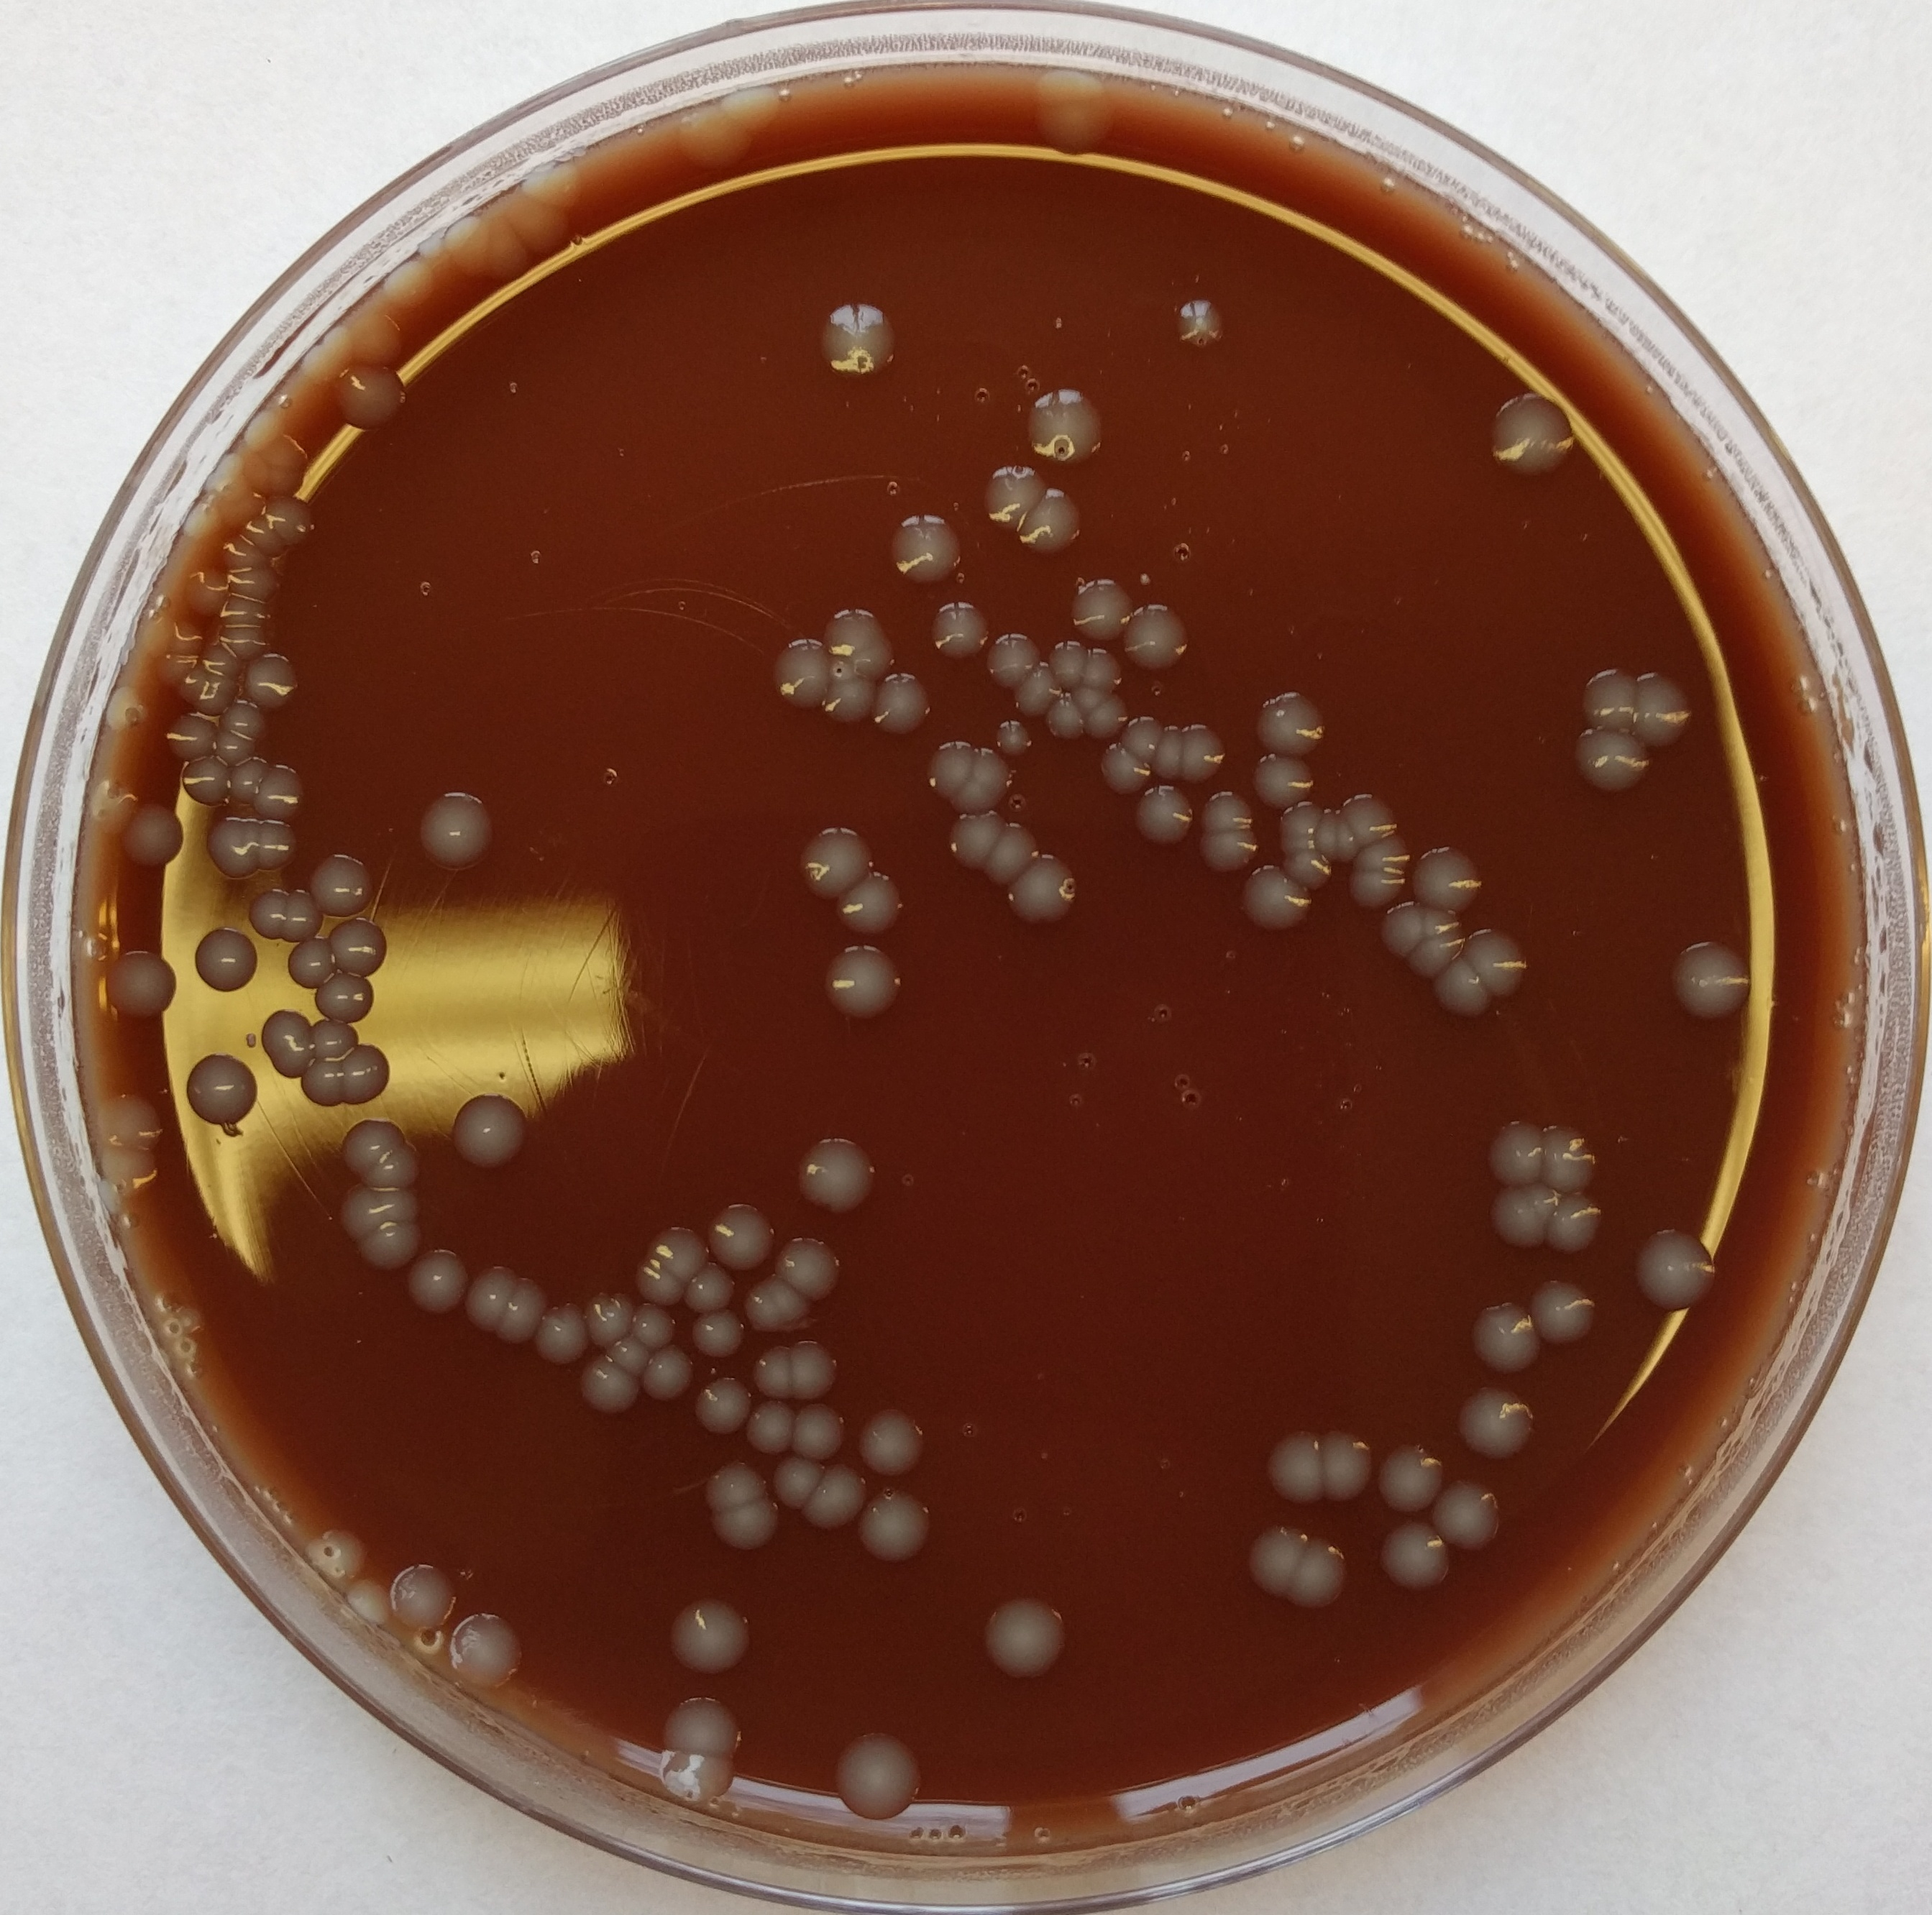sp02: (976, 1592, 1077, 1689), (828, 1727, 925, 1824), (662, 1592, 765, 1682), (1486, 388, 1581, 482), (1662, 936, 1762, 1024), (1634, 1219, 1723, 1312), (444, 1086, 533, 1175), (790, 1133, 884, 1215), (414, 784, 500, 873), (442, 1605, 528, 1691), (818, 298, 904, 382), (814, 943, 905, 1022), (181, 1050, 263, 1136), (1021, 386, 1109, 466), (788, 826, 876, 907), (319, 361, 414, 433), (856, 1484, 939, 1566), (1567, 719, 1653, 798), (1374, 1513, 1453, 1599), (98, 945, 184, 1022), (883, 510, 969, 586), (653, 1692, 741, 1764), (1462, 1298, 1542, 1375), (1232, 1522, 1309, 1603), (1458, 928, 1537, 1005), (853, 1403, 928, 1484), (669, 103, 760, 170), (1625, 668, 1695, 754), (1370, 1438, 1446, 1517), (497, 188, 579, 260), (649, 1738, 733, 1808), (1460, 1384, 1537, 1459), (1239, 861, 1313, 940), (1407, 838, 1481, 917), (705, 1196, 779, 1275), (762, 637, 839, 710), (1004, 858, 1088, 924), (1523, 1275, 1599, 1349), (970, 463, 1048, 535), (1428, 1480, 1506, 1552), (1032, 91, 1120, 154), (1263, 1426, 1332, 1506), (397, 1242, 470, 1315), (1251, 686, 1328, 756), (300, 852, 377, 922), (1118, 603, 1197, 670), (1479, 1175, 1546, 1254), (1537, 1117, 1602, 1198), (191, 924, 263, 996), (1014, 489, 1091, 556), (1542, 1185, 1607, 1264), (1316, 1429, 1377, 1512), (1065, 573, 1135, 645), (1427, 949, 1493, 1024), (1574, 661, 1641, 737), (828, 872, 905, 936), (770, 1231, 841, 1301), (474, 210, 539, 286), (1481, 1114, 1546, 1189), (949, 745, 1020, 814), (800, 1464, 870, 1533), (532, 1299, 597, 1373), (339, 1184, 426, 1238), (1286, 1538, 1353, 1608), (384, 1564, 454, 1631), (200, 814, 270, 880), (91, 1094, 163, 1159), (702, 1498, 786, 1552), (116, 800, 184, 866), (979, 822, 1049, 887), (814, 656, 877, 728), (353, 1217, 433, 1273), (1132, 777, 1193, 851), (333, 1114, 409, 1173), (691, 1371, 758, 1438), (333, 1040, 402, 1105), (741, 1275, 814, 1335), (462, 1259, 518, 1336), (925, 600, 991, 665), (305, 1522, 372, 1587), (1028, 61, 1114, 110), (576, 1352, 640, 1417), (344, 310, 412, 372), (942, 805, 1004, 873), (816, 607, 893, 661), (644, 1224, 714, 1284), (256, 1010, 314, 1082), (321, 922, 393, 980), (872, 673, 935, 737), (581, 1292, 644, 1356), (1251, 745, 1313, 810), (741, 1394, 800, 1461), (93, 1147, 168, 1200), (312, 972, 377, 1029), (784, 1336, 844, 1398), (261, 488, 323, 547), (244, 763, 309, 819), (179, 563, 244, 619), (360, 1142, 426, 1196), (1191, 822, 1260, 875), (1172, 293, 1230, 354), (633, 1345, 695, 1403), (919, 735, 976, 798), (498, 1277, 555, 1340), (175, 754, 239, 810), (370, 261, 442, 310), (697, 1459, 769, 1508), (986, 628, 1041, 693), (1095, 738, 1153, 798), (681, 1261, 739, 1321), (1374, 900, 1430, 961), (751, 1347, 809, 1405), (297, 1054, 353, 1114), (244, 649, 300, 708), (1176, 721, 1230, 782), (626, 1257, 691, 1308), (769, 1452, 826, 1508), (1400, 931, 1465, 980), (305, 1014, 370, 1063), (283, 936, 342, 989), (84, 779, 137, 838), (1344, 831, 1413, 877), (525, 160, 590, 207), (160, 714, 225, 761), (446, 223, 502, 277), (625, 1296, 677, 1354), (721, 88, 788, 133), (690, 1308, 749, 1359), (440, 212, 502, 261), (1342, 866, 1407, 912), (237, 889, 293, 942), (793, 1406, 844, 1464), (1339, 791, 1393, 844), (344, 1575, 395, 1631), (253, 815, 304, 872), (605, 1333, 665, 1380), (277, 884, 325, 943), (223, 754, 275, 807), (216, 701, 277, 745), (267, 431, 319, 482), (1011, 665, 1060, 719), (212, 593, 277, 633), (1081, 691, 1132, 742), (1202, 786, 1255, 835), (1118, 708, 1162, 766), (1041, 638, 1088, 691), (1076, 649, 1128, 694), (1283, 849, 1335, 894), (179, 503, 232, 547), (225, 563, 281, 603), (239, 410, 295, 451), (1151, 721, 1188, 782), (848, 635, 897, 680), (242, 516, 288, 565), (1041, 694, 1084, 745), (100, 686, 151, 730), (209, 726, 263, 766), (219, 538, 274, 579), (146, 647, 202, 686), (198, 675, 247, 719), (216, 621, 274, 658), (1313, 801, 1342, 872), (197, 640, 246, 682), (298, 344, 347, 386), (1418, 896, 1463, 940), (232, 444, 272, 491), (1272, 828, 1325, 863), (263, 459, 311, 498), (1332, 810, 1363, 866), (1065, 680, 1111, 719), (995, 719, 1039, 758), (174, 668, 216, 705), (1279, 798, 1323, 833), (823, 656, 855, 682)
